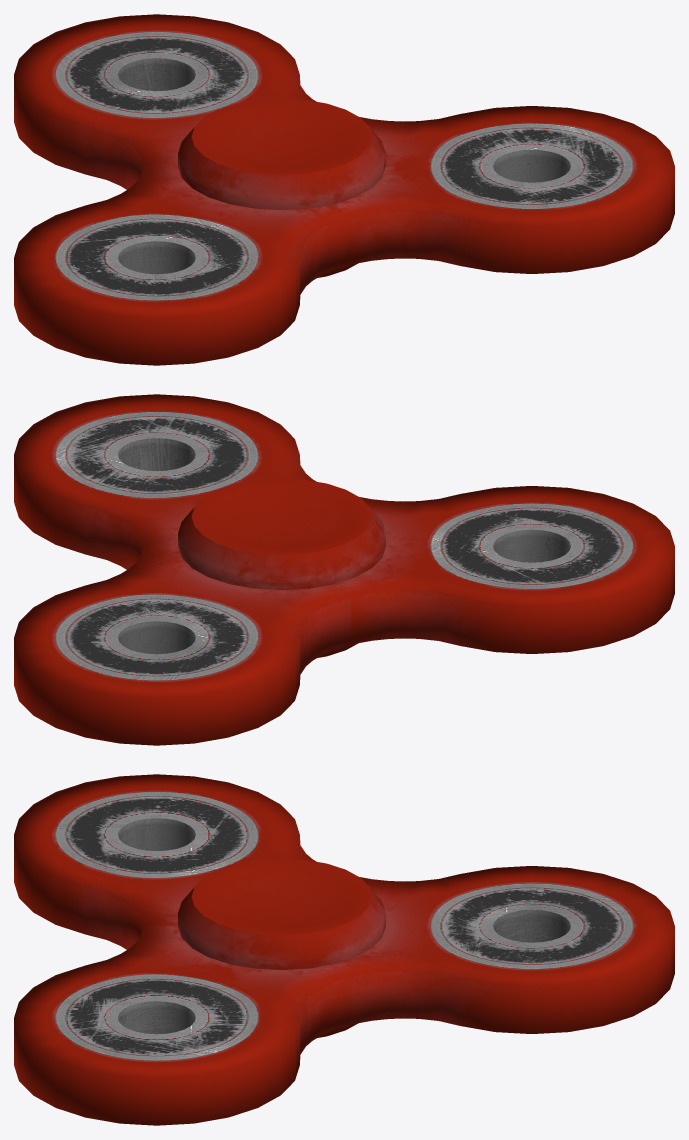
The model's file is FidgetSpinner.glb.
The picture shows the model from 3 angles, top to bottom: view 1: azimuth 30°, elevation 25°; view 2: azimuth 150°, elevation 25°; view 3: azimuth 270°, elevation 25°; orthographic projection.
Parts seen in each view (by area): view 1: Spinner_Low; view 2: Spinner_Low; view 3: Spinner_Low.
Boxes of the visible parts, <box> form: Spinner_Low: <box>14,14,674,365</box>; Spinner_Low: <box>14,394,674,745</box>; Spinner_Low: <box>14,774,674,1125</box>.
Bounding box in the file's own units: 0.5533 × 0.0905 × 0.5087.
1 material, 1 textured.
